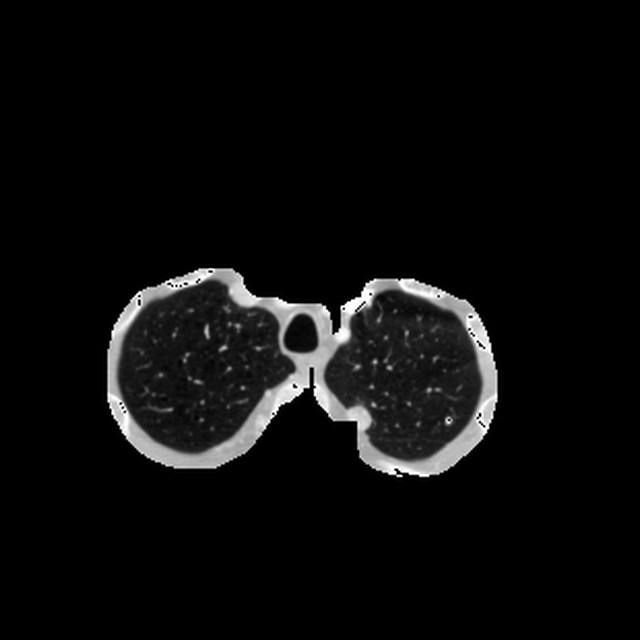PN: (347, 405, 372, 429)
